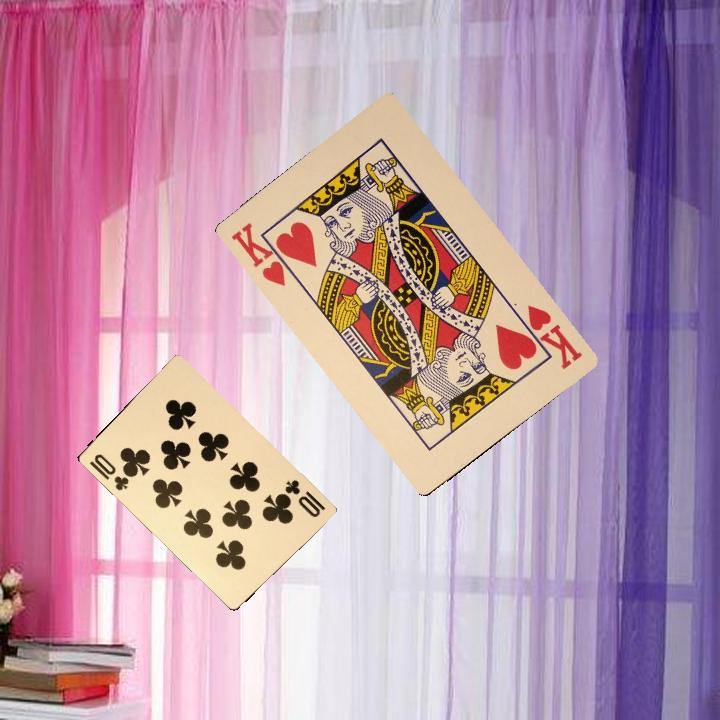10c: (281, 475, 328, 520), (85, 450, 134, 493)
Kh: (512, 300, 585, 372), (227, 218, 299, 289)
